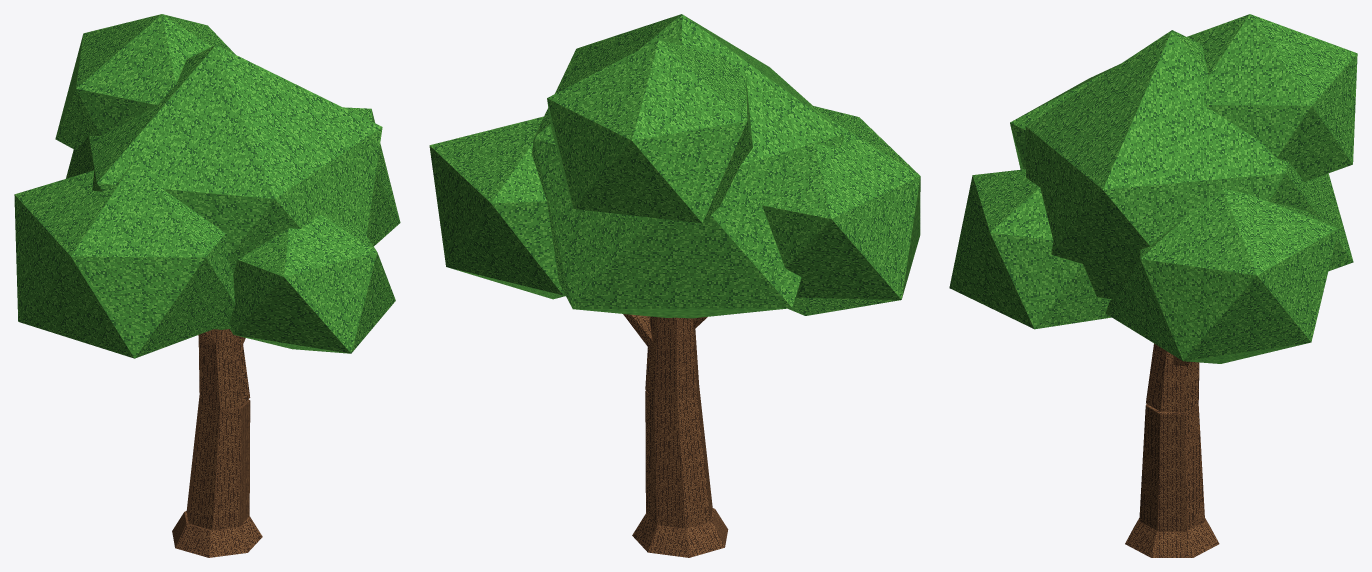
The model's file is tree_oak_b.glb.
The picture shows the model from 3 angles, left to right: view 1: azimuth 30°, elevation 25°; view 2: azimuth 150°, elevation 25°; view 3: azimuth 270°, elevation 25°; orthographic projection. The views are drawn at different scales.
Parts seen in each view (by area): view 1: Body; view 2: Body; view 3: Body.
Part boxes in pixels (<box>): Body: <box>14,14,400,557</box>; Body: <box>429,14,920,557</box>; Body: <box>949,14,1357,557</box>.
Bounding box in the file's own units: 4.9 × 5.89 × 4.2.
2 materials, 2 textured.
